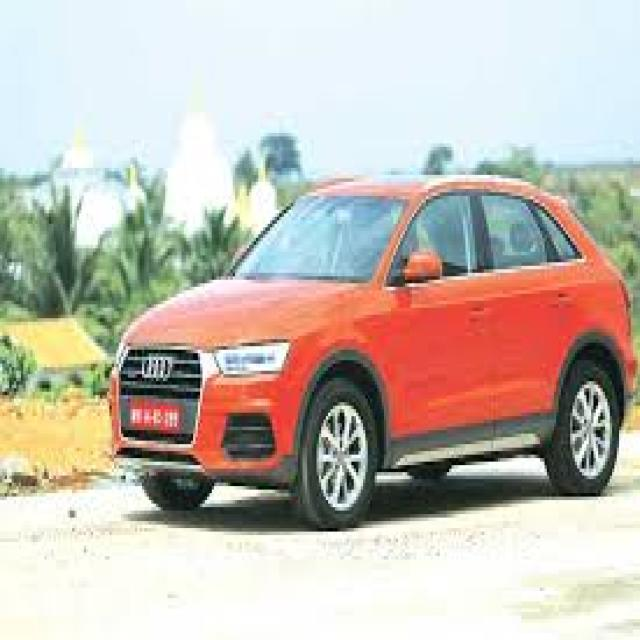SUV: (110, 168, 639, 533)
